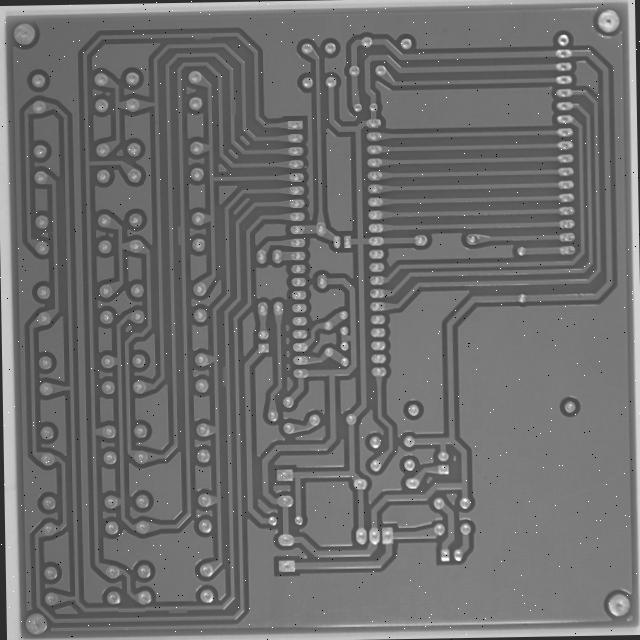spur: (174, 333, 191, 367), (128, 180, 143, 213), (117, 600, 144, 616), (185, 42, 200, 68)
